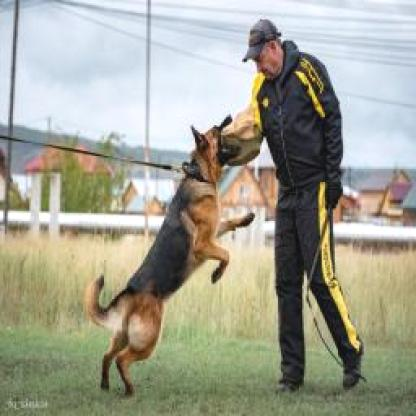dog: (84, 113, 256, 397)
